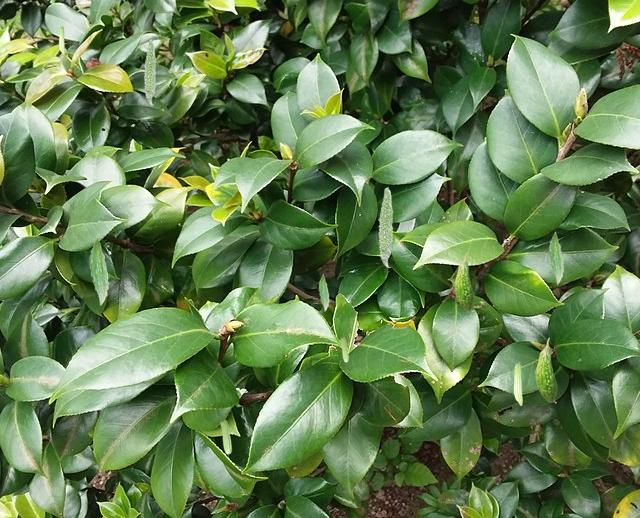ampalaya: (534, 337, 557, 403), (89, 237, 109, 305), (377, 186, 393, 268), (453, 252, 474, 312), (143, 38, 156, 105), (548, 231, 564, 284), (513, 360, 523, 406), (220, 419, 232, 454), (318, 273, 329, 311), (340, 336, 349, 362), (58, 25, 65, 55)
